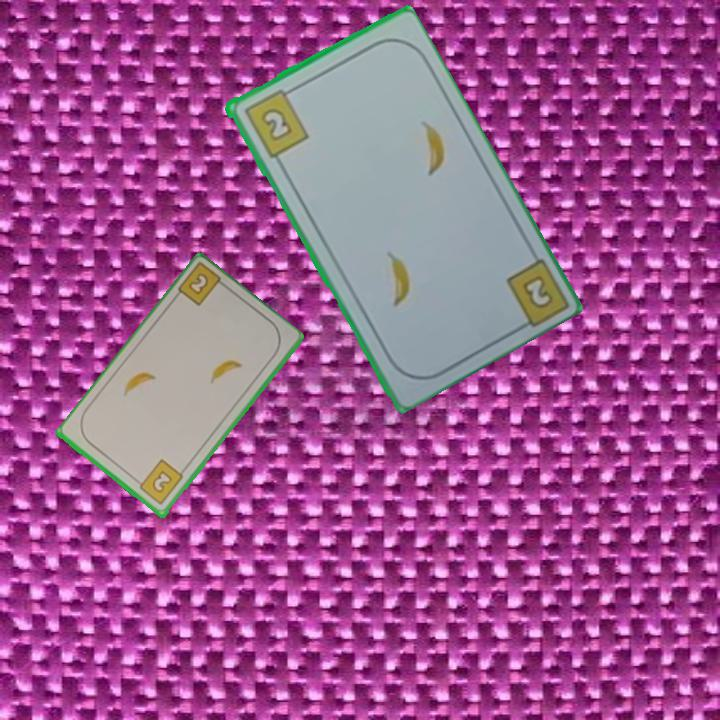2b: (240, 84, 311, 161), (132, 456, 186, 508), (174, 261, 231, 309), (518, 271, 556, 312)
